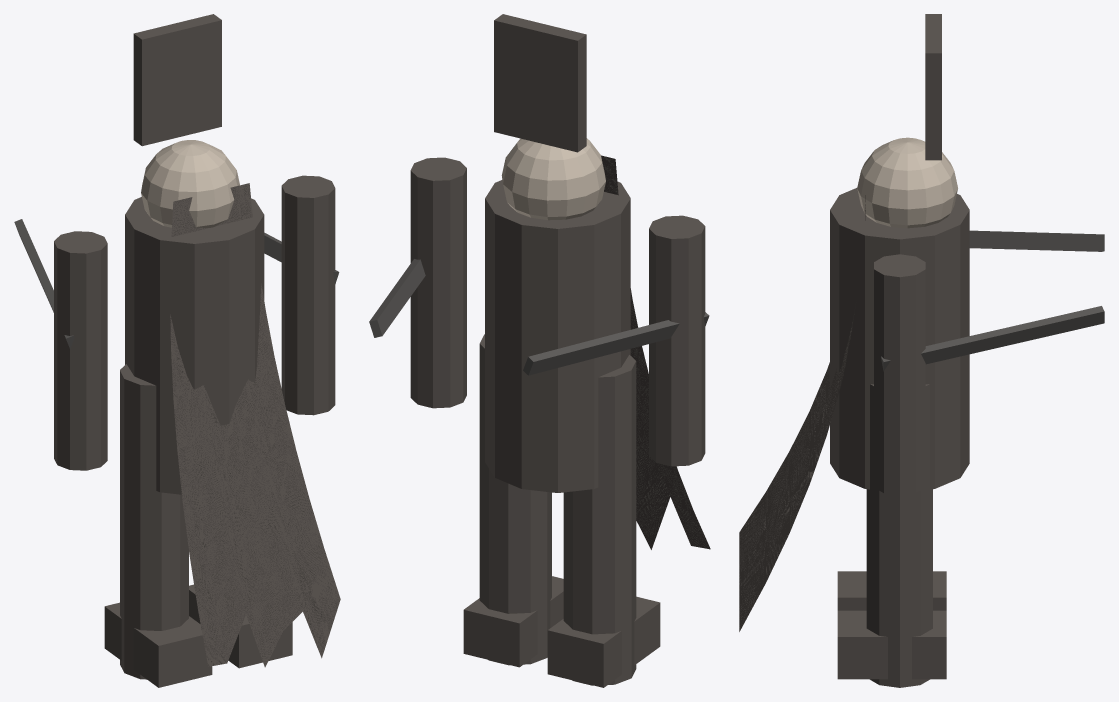
The model's file is veil_dancer.glb.
3 views of the same model, side by side, from view 1: azimuth 30°, elevation 25°; view 2: azimuth 150°, elevation 25°; view 3: azimuth 270°, elevation 25° (orthographic). The views are drawn at different scales.
Visible parts, largest first — view 1: veil_dancer; view 2: veil_dancer; view 3: veil_dancer.
Part boxes in pixels (x1=…): veil_dancer: x1=14, y1=14, x2=340, y2=687; veil_dancer: x1=369, y1=14, x2=710, y2=687; veil_dancer: x1=739, y1=14, x2=1104, y2=687.
Size of the model in its own units: 0.7544 by 1.62 by 0.8646.
